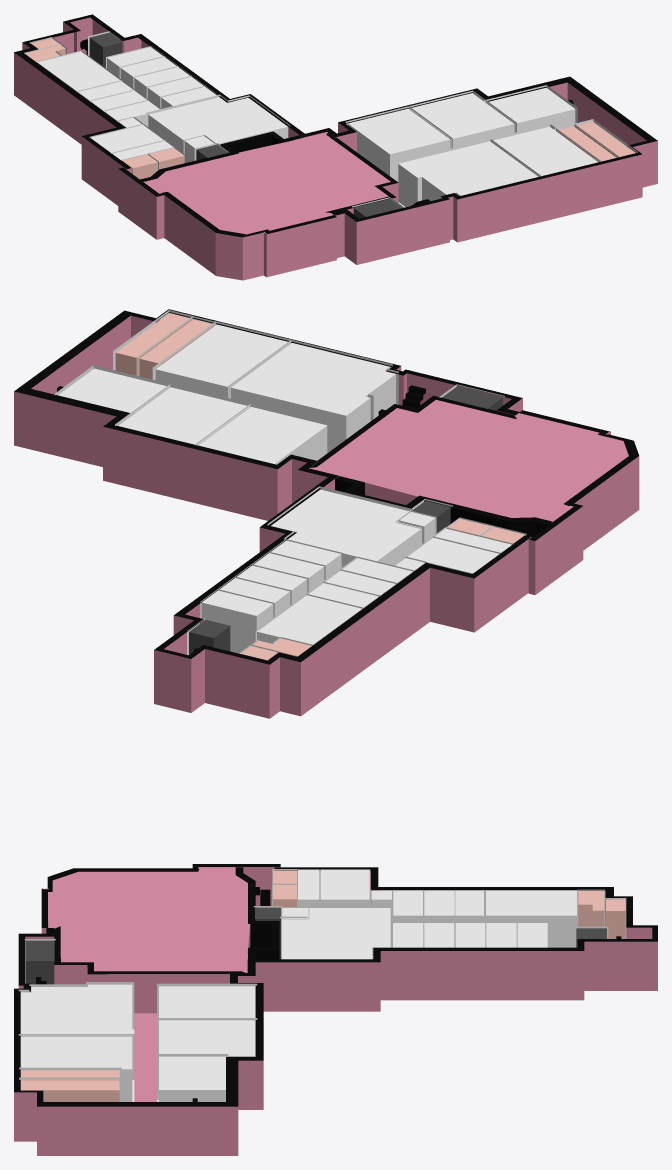
3 renders of one model, top to bottom at view 1: azimuth 30°, elevation 25°; view 2: azimuth 150°, elevation 25°; view 3: azimuth 270°, elevation 25°, orthographic. The views are drawn at different scales.
Parts seen in each view (by area): view 1: object, room_1_2_5, room_1_2_15, room_1_2_2, room_1_2_3, room_1_2_6, room_1_2_4, room_1_2_19, room_1_2_14, トイレ_1_2_1, エレベーター_1_2_3, トイレ_1_2_4 (+15 smaller); view 2: object, room_1_2_5, room_1_2_15, room_1_2_6, room_1_2_2, room_1_2_3, room_1_2_19, room_1_2_4, room_1_2_18, room_1_2_14, トイレ_1_2_1, トイレ_1_2_4 (+13 smaller); view 3: object, room_1_2_5, room_1_2_15, room_1_2_6, room_1_2_19, room_1_2_3, room_1_2_2, room_1_2_4, トイレ_1_2_1, room_1_2_14, エレベーター_1_2_1, トイレ_1_2_6 (+11 smaller).
Boxes of the visible parts, bbox=[...] form: object: bbox=[14, 14, 657, 280]; room_1_2_5: bbox=[398, 141, 538, 206]; room_1_2_15: bbox=[148, 97, 288, 153]; room_1_2_2: bbox=[348, 109, 450, 180]; room_1_2_3: bbox=[409, 93, 514, 148]; room_1_2_6: bbox=[491, 126, 597, 176]; room_1_2_4: bbox=[486, 88, 575, 132]; room_1_2_19: bbox=[37, 51, 120, 91]; room_1_2_14: bbox=[90, 125, 163, 152]; トイレ_1_2_1: bbox=[575, 121, 635, 157]; エレベーター_1_2_3: bbox=[89, 32, 122, 67]; トイレ_1_2_4: bbox=[556, 126, 616, 162]; object: bbox=[14, 309, 639, 718]; room_1_2_5: bbox=[231, 343, 395, 450]; room_1_2_15: bbox=[271, 489, 421, 566]; room_1_2_6: bbox=[155, 324, 290, 398]; room_1_2_2: bbox=[199, 407, 327, 464]; room_1_2_3: bbox=[118, 387, 250, 445]; room_1_2_19: bbox=[257, 595, 361, 644]; room_1_2_4: bbox=[58, 368, 169, 414]; room_1_2_18: bbox=[201, 590, 273, 653]; room_1_2_14: bbox=[407, 537, 499, 573]; トイレ_1_2_1: bbox=[115, 313, 191, 376]; トイレ_1_2_4: bbox=[139, 319, 214, 379]; object: bbox=[14, 864, 657, 1155]; room_1_2_5: bbox=[20, 984, 132, 1036]; room_1_2_15: bbox=[282, 908, 390, 959]; room_1_2_6: bbox=[20, 1036, 132, 1101]; room_1_2_19: bbox=[486, 891, 576, 947]; room_1_2_3: bbox=[159, 1020, 255, 1056]; room_1_2_2: bbox=[159, 986, 255, 1020]; room_1_2_4: bbox=[159, 1056, 225, 1101]; トイレ_1_2_1: bbox=[21, 1080, 119, 1101]; room_1_2_14: bbox=[320, 870, 369, 905]; エレベーター_1_2_1: bbox=[26, 940, 54, 984]; トイレ_1_2_6: bbox=[578, 890, 604, 926].
Size of the model in its own units: 2.08 by 0.6297 by 2.29.
